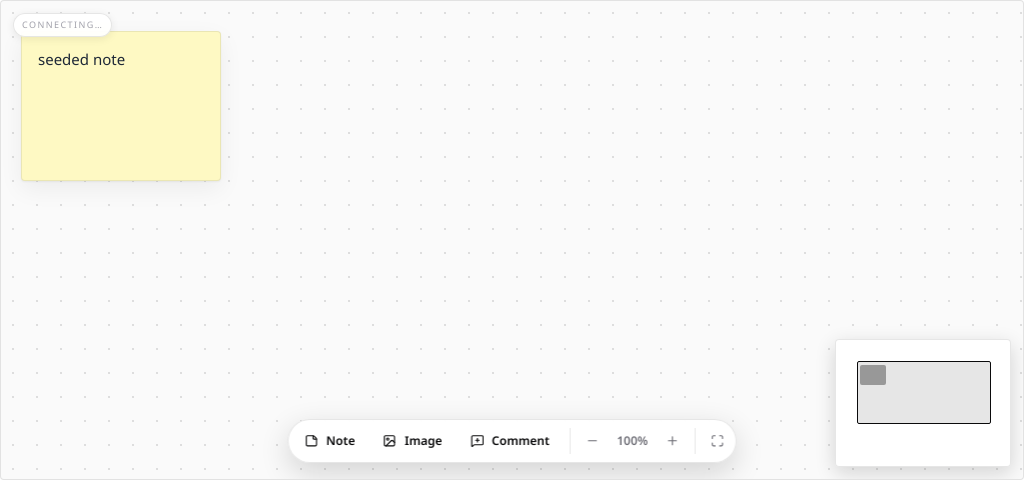
Test: BoardCanvas › deleting a card › asks for confirmation instead of deleting immediately
Press the mouse on the text "seeded note" at coordinates (82, 59), box [38,49,125,69]
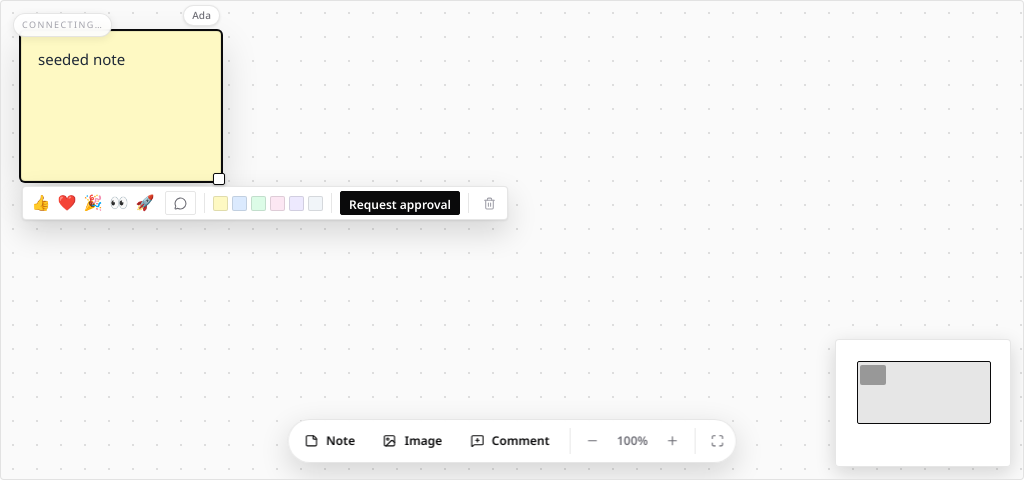
Click the button named "Delete card" at coordinates (489, 203), box [477,191,501,215]
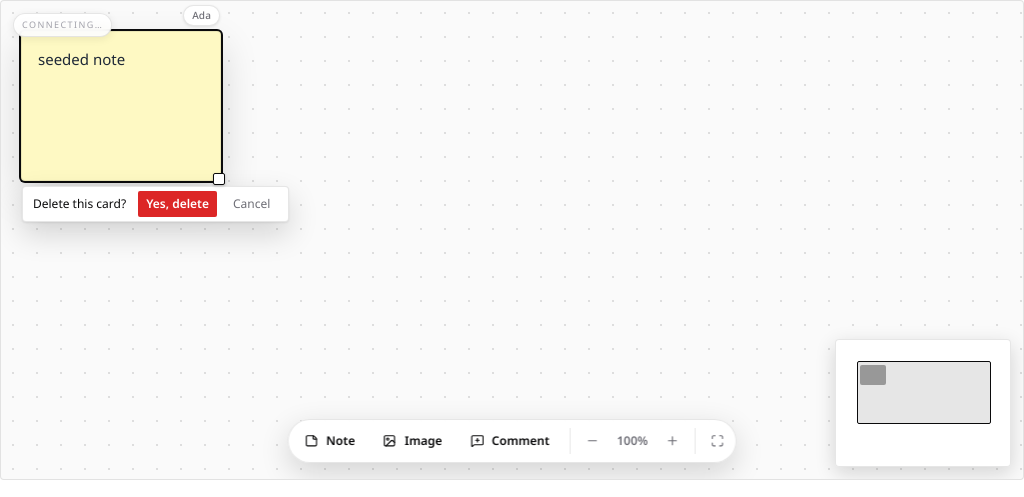
Now the text "Delete this card?" is shown, box [33,195,126,213]
